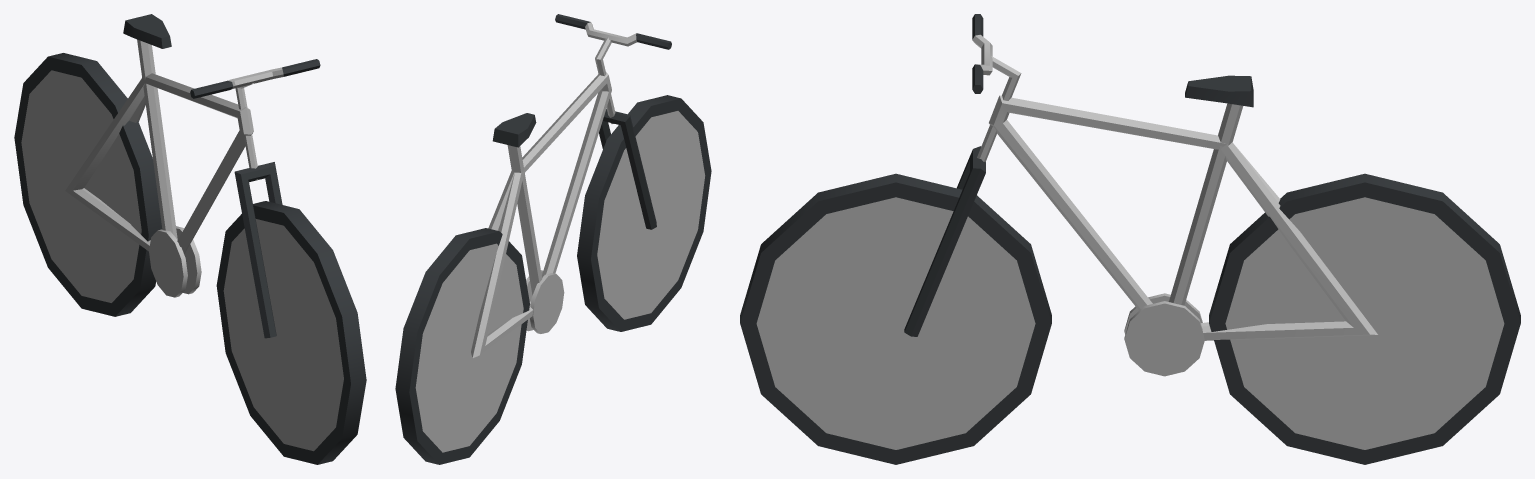
Rendered from Bike.FBX.
The picture shows the model from 3 angles, left to right: view 1: azimuth 30°, elevation 25°; view 2: azimuth 150°, elevation 25°; view 3: azimuth 270°, elevation 25°; orthographic projection. The views are drawn at different scales.
Parts seen in each view (by area): view 1: Bike; view 2: Bike; view 3: Bike.
Part boxes in pixels (bbox=[...]): Bike: bbox=[14, 14, 366, 464]; Bike: bbox=[395, 14, 711, 464]; Bike: bbox=[740, 14, 1520, 464].
Bounding box in the file's own units: 1.35 × 3.64 × 6.27.
